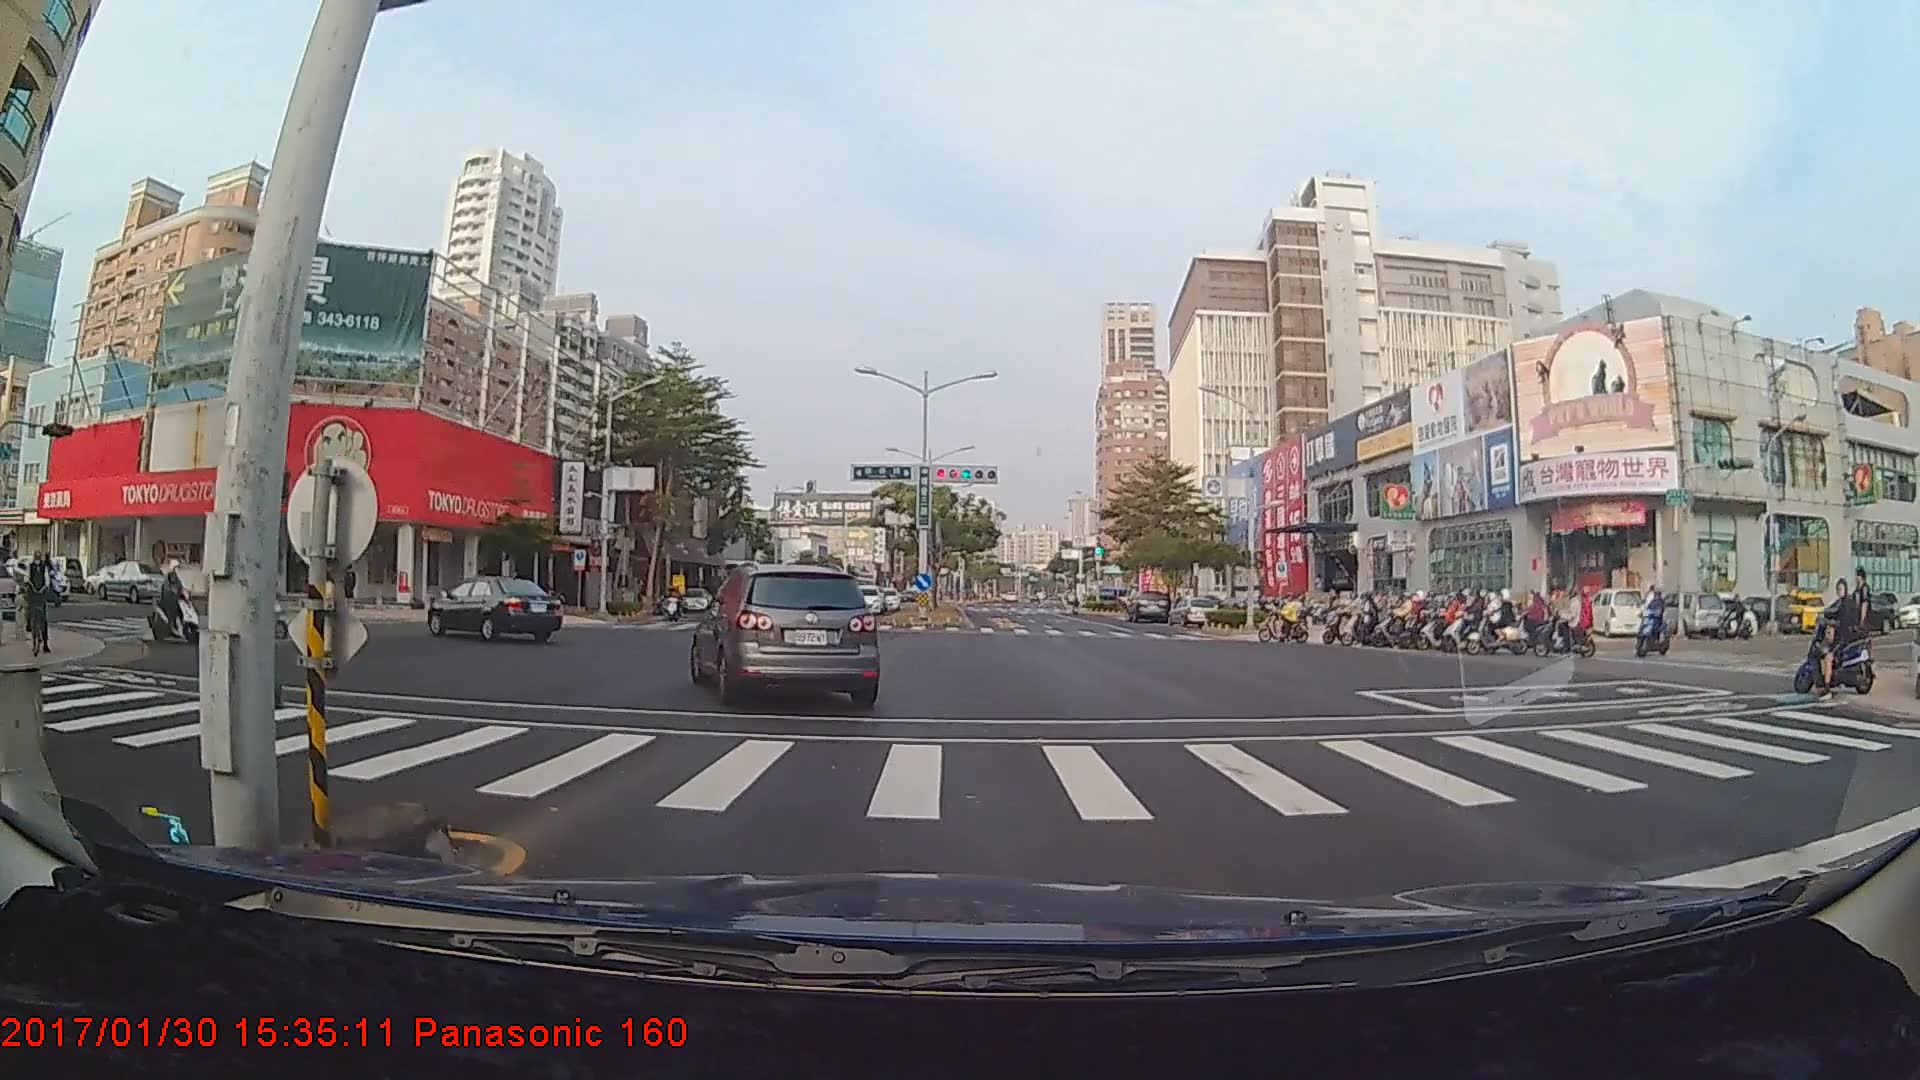pedestrian: (1848, 566, 1879, 681)
rider: (1795, 567, 1889, 700), (1530, 578, 1601, 664), (145, 558, 213, 648), (231, 571, 293, 642), (16, 555, 57, 662), (1475, 588, 1532, 654), (1310, 592, 1372, 646), (1445, 590, 1501, 648), (1355, 593, 1408, 648), (1255, 591, 1312, 641), (1636, 590, 1677, 658), (1416, 599, 1472, 648), (659, 584, 686, 621)
vehicle: (693, 557, 883, 704), (425, 576, 563, 644), (1125, 589, 1171, 624)
